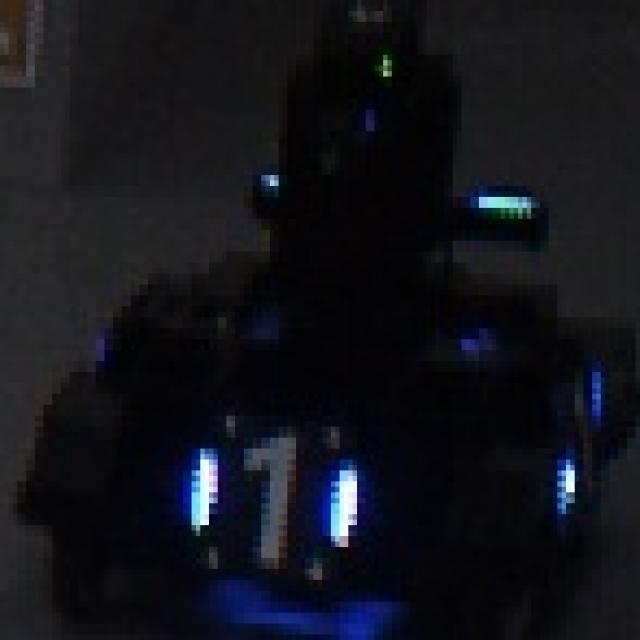B1: (187, 427, 353, 552)
